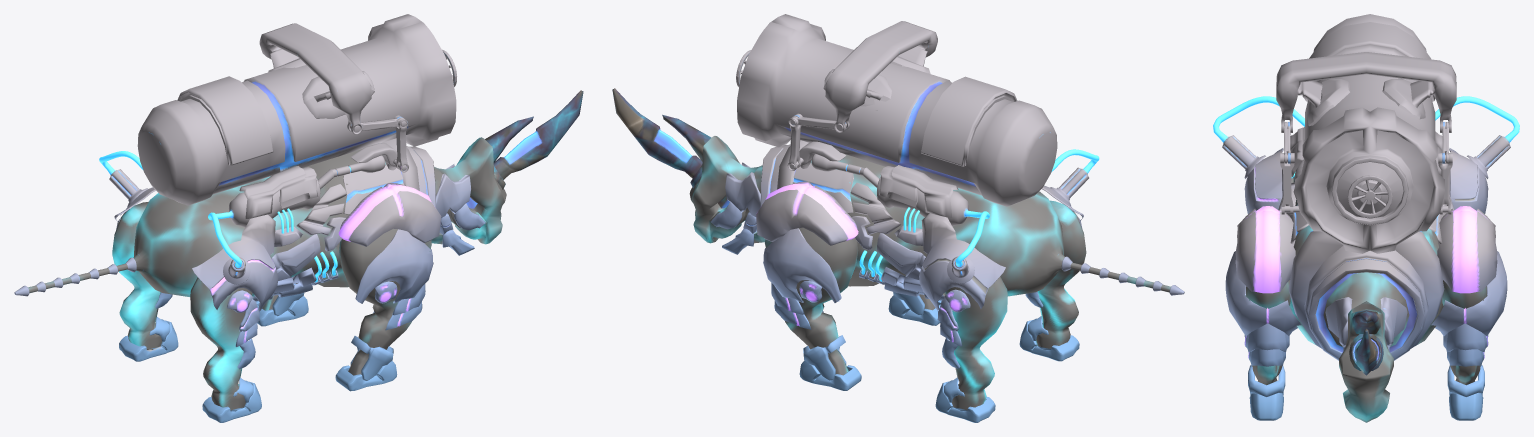
File: RhinoTexture_v02.glb
3 views of the same model, side by side, from view 1: azimuth 30°, elevation 25°; view 2: azimuth 150°, elevation 25°; view 3: azimuth 270°, elevation 25° (orthographic). The views are drawn at different scales.
Visible parts, largest first — view 1: polySurface695; view 2: polySurface695; view 3: polySurface695.
Boxes of the visible parts, box(x1,y1,x2,y2) form: polySurface695: box(14, 14, 583, 422); polySurface695: box(612, 14, 1184, 422); polySurface695: box(1213, 14, 1519, 422).
Size of the model in its own units: 0.2584 by 0.134 by 0.1075.
1 material, 1 textured.
